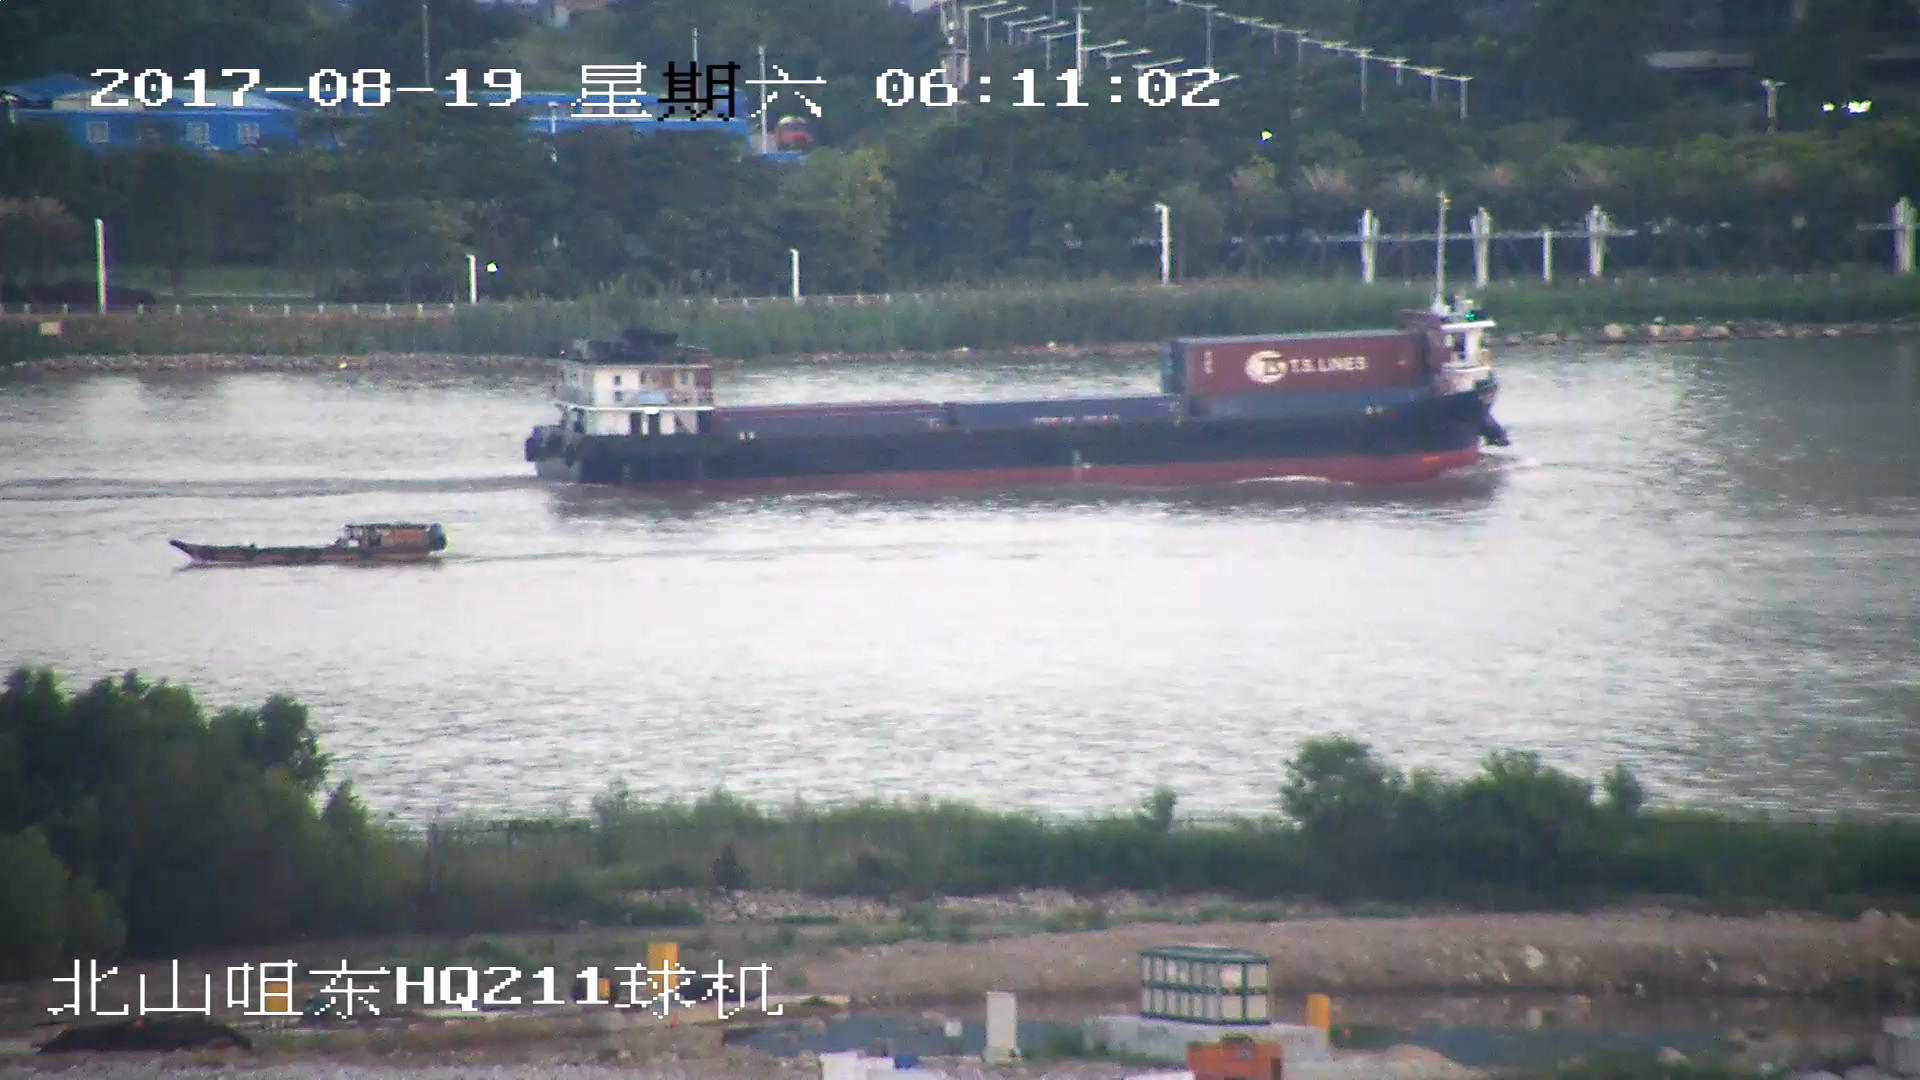container ship: (521, 290, 1518, 490)
fishing boat: (173, 514, 450, 567)
